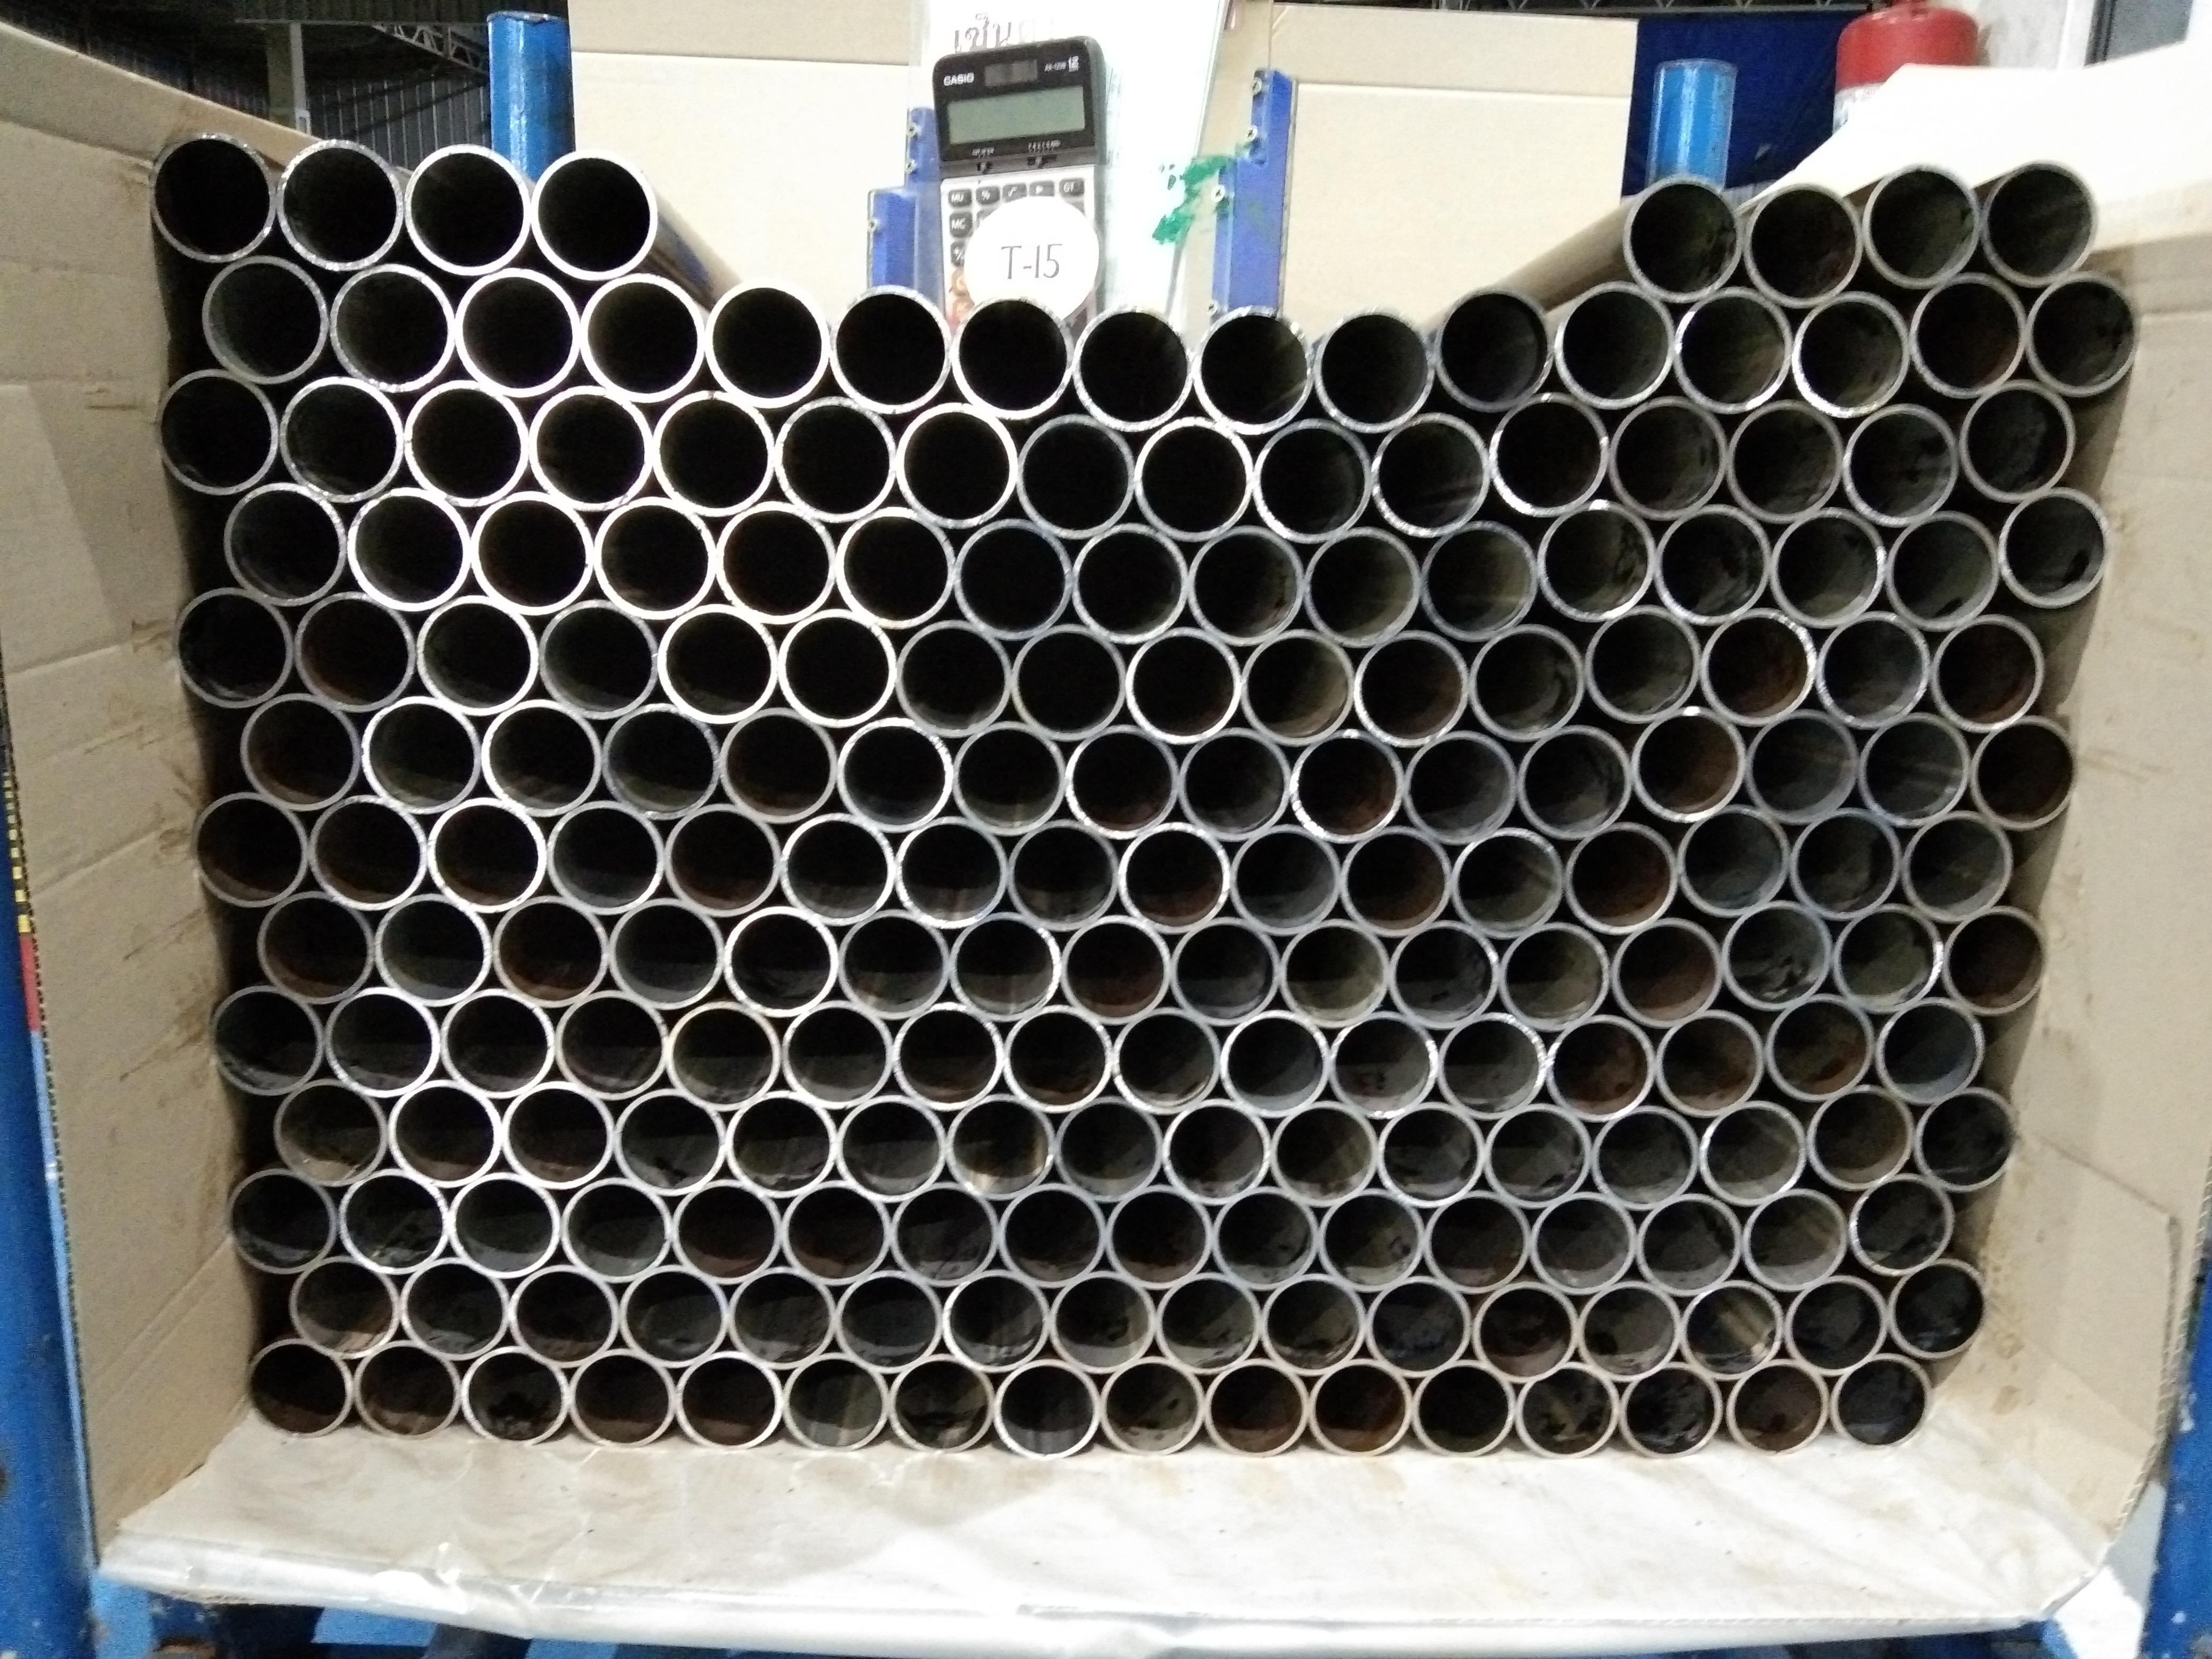pipe: (200, 246, 331, 387), (272, 136, 404, 270), (402, 139, 531, 277), (528, 146, 657, 281), (453, 263, 582, 397), (327, 258, 456, 390), (148, 129, 277, 260), (580, 270, 707, 403), (1975, 153, 2101, 288), (951, 288, 1076, 420), (153, 366, 280, 495), (402, 376, 529, 505), (704, 277, 831, 406), (277, 371, 402, 502), (1740, 173, 1864, 305), (1791, 282, 1912, 416), (827, 282, 953, 411), (1071, 298, 1195, 429), (772, 392, 897, 519), (650, 387, 775, 514), (223, 479, 348, 606), (526, 382, 651, 509), (1432, 282, 1555, 411), (1860, 159, 1980, 291), (1618, 174, 1742, 301), (1193, 301, 1315, 430), (1313, 301, 1437, 427), (345, 484, 470, 608), (1014, 410, 1136, 537), (1369, 408, 1491, 535), (895, 399, 1017, 526), (1554, 281, 1676, 408), (1604, 392, 1724, 521), (1672, 284, 1792, 413), (1251, 413, 1371, 542), (1909, 268, 2027, 399), (469, 490, 592, 613), (1132, 415, 1254, 540), (291, 589, 416, 711), (1489, 390, 1609, 518), (1418, 514, 1538, 641), (1723, 396, 1843, 523), (714, 500, 838, 622), (592, 495, 716, 617), (834, 504, 954, 629), (174, 584, 294, 709), (1841, 397, 1958, 526), (536, 596, 658, 718), (1536, 498, 1653, 626), (240, 690, 362, 810), (415, 594, 536, 714), (657, 601, 779, 721), (1069, 519, 1188, 643), (953, 514, 1071, 638), (1958, 376, 2073, 504), (2026, 268, 2141, 396), (777, 606, 897, 727), (1186, 523, 1305, 645), (599, 701, 721, 819), (1583, 603, 1702, 725), (361, 694, 482, 812), (1766, 505, 1885, 627), (1301, 523, 1420, 645), (1928, 606, 2041, 734), (894, 615, 1012, 735), (1514, 720, 1634, 838), (481, 697, 601, 816), (660, 800, 780, 918), (427, 795, 547, 913), (834, 713, 953, 833), (1653, 502, 1770, 624), (1998, 484, 2111, 610), (718, 706, 838, 823), (1467, 620, 1583, 741), (308, 793, 428, 910), (1883, 507, 2000, 627), (1353, 627, 1470, 746), (777, 809, 895, 925), (545, 798, 664, 915), (1698, 606, 1815, 725), (1238, 626, 1355, 744), (1562, 817, 1681, 934), (1606, 911, 1726, 1026), (256, 889, 376, 1004), (1813, 608, 1928, 728), (190, 791, 312, 904), (949, 718, 1066, 835), (1008, 622, 1125, 739), (1125, 626, 1242, 742), (606, 896, 725, 1011), (373, 890, 491, 1006), (1676, 803, 1791, 922), (489, 894, 610, 1007), (892, 812, 1008, 927), (1402, 727, 1517, 843), (721, 903, 838, 1018), (1176, 725, 1292, 840), (1630, 706, 1745, 823), (834, 904, 951, 1019), (1855, 709, 1970, 826), (1289, 727, 1404, 842), (1064, 723, 1179, 838), (1449, 824, 1564, 939), (665, 993, 780, 1108), (1005, 817, 1120, 931), (1743, 708, 1857, 823), (1968, 713, 2080, 829), (948, 908, 1061, 1021), (1228, 823, 1341, 936), (1787, 805, 1900, 918), (1496, 918, 1611, 1030), (552, 988, 667, 1100), (439, 986, 556, 1096), (779, 999, 895, 1108), (322, 985, 439, 1094), (1339, 824, 1453, 936), (500, 1079, 613, 1190), (211, 983, 326, 1093), (1900, 807, 2010, 922), (1118, 821, 1230, 932), (1277, 917, 1388, 1028), (1655, 1006, 1766, 1117), (1386, 918, 1498, 1030), (1763, 992, 1874, 1103), (1829, 901, 1940, 1012), (890, 1000, 1003, 1110), (1000, 1002, 1113, 1112), (559, 1173, 672, 1283), (1939, 903, 2048, 1016), (611, 1086, 726, 1194), (387, 1077, 502, 1185), (273, 1075, 388, 1183), (1059, 913, 1170, 1023), (1169, 915, 1280, 1025), (1543, 1011, 1655, 1121), (1109, 1004, 1221, 1114), (1721, 899, 1831, 1011), (834, 1091, 948, 1199), (1327, 1009, 1437, 1119), (946, 1091, 1055, 1201), (1219, 1007, 1329, 1117), (1266, 1098, 1378, 1206), (888, 1178, 1000, 1286), (1052, 1093, 1163, 1201), (725, 1089, 838, 1195), (225, 1166, 338, 1272), (1698, 1096, 1808, 1204), (1806, 1082, 1914, 1192), (1435, 1011, 1545, 1119), (1588, 1103, 1700, 1209), (780, 1178, 892, 1284), (448, 1169, 559, 1276), (671, 1176, 782, 1283), (338, 1166, 449, 1272), (1874, 995, 1982, 1103), (1423, 1187, 1531, 1295), (1527, 1188, 1635, 1297), (1480, 1101, 1590, 1208), (1160, 1096, 1270, 1202), (1634, 1190, 1743, 1297), (1104, 1182, 1212, 1288), (1742, 1183, 1848, 1291), (1211, 1183, 1318, 1290), (1374, 1100, 1484, 1204), (618, 1262, 728, 1366), (726, 1263, 836, 1368), (240, 1335, 354, 1436), (1049, 1267, 1155, 1373), (998, 1182, 1106, 1286), (1317, 1185, 1425, 1290), (1848, 1171, 1952, 1279), (834, 1267, 944, 1370), (289, 1253, 399, 1356), (509, 1262, 618, 1364), (399, 1255, 509, 1358), (942, 1267, 1049, 1371), (1155, 1269, 1261, 1373), (1364, 1272, 1470, 1377), (1259, 1270, 1366, 1375), (674, 1347, 782, 1450), (352, 1337, 460, 1439), (1470, 1277, 1578, 1380), (1099, 1352, 1204, 1457), (782, 1349, 888, 1452), (995, 1354, 1101, 1457), (887, 1351, 993, 1453), (1886, 1256, 1989, 1363), (460, 1344, 568, 1445), (1914, 1086, 2017, 1190), (1784, 1272, 1890, 1373), (568, 1345, 674, 1446), (1576, 1277, 1679, 1380), (1308, 1356, 1411, 1459), (1204, 1356, 1308, 1457), (1679, 1277, 1782, 1378), (1413, 1358, 1515, 1459), (1831, 1351, 1933, 1452), (1515, 1359, 1616, 1460), (1618, 1361, 1723, 1459), (1726, 1358, 1831, 1455)
